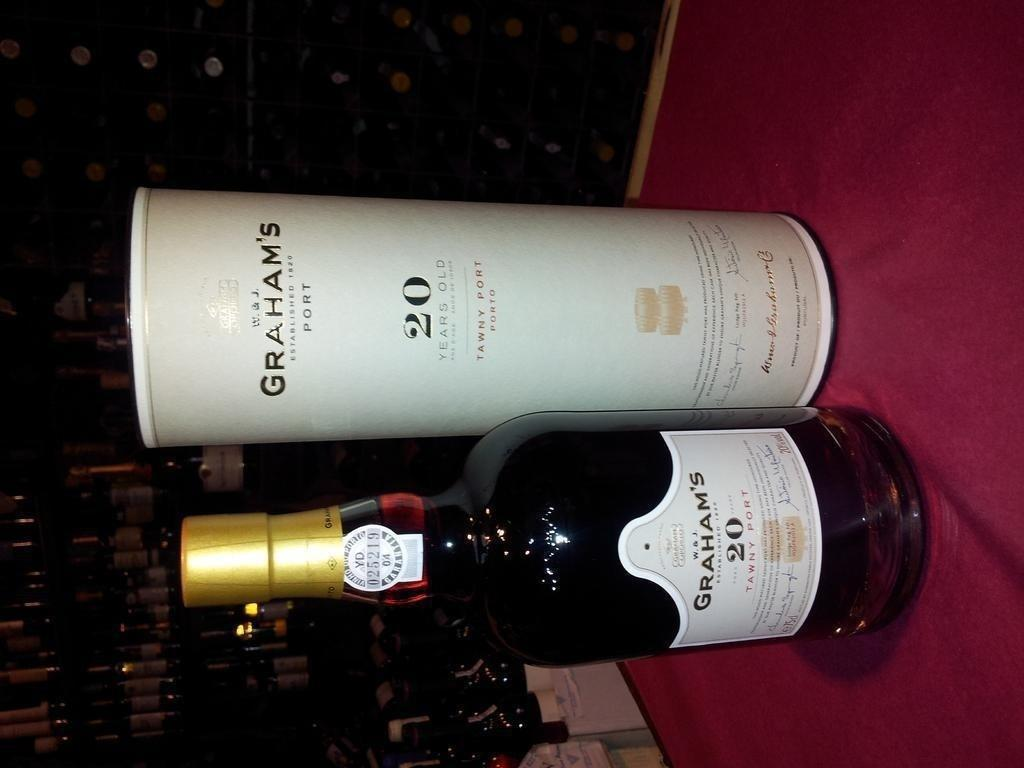bottle-glass: (162, 403, 929, 670)
